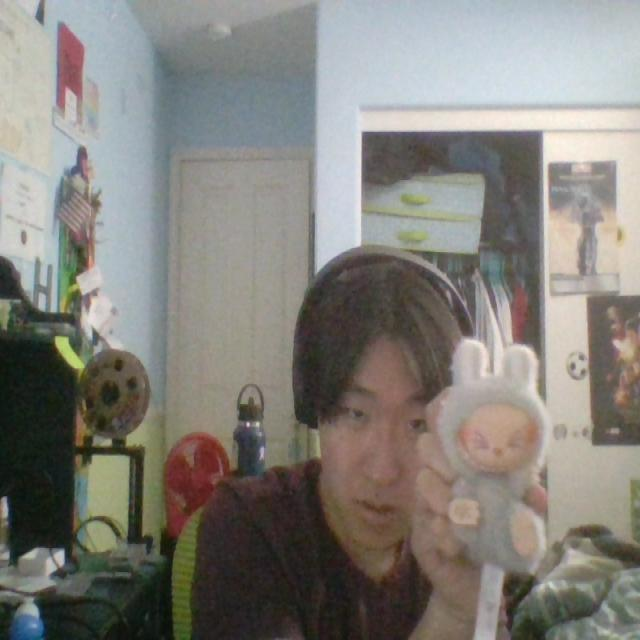labubu: (436, 340, 552, 572)
